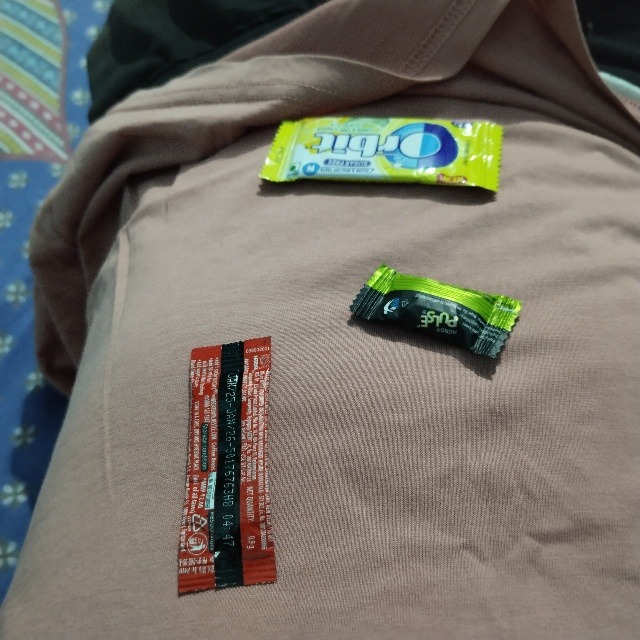Nescafe Coffee: (178, 339, 279, 587)
Orbit: (273, 120, 507, 193)
Pulse: (375, 244, 543, 330)
